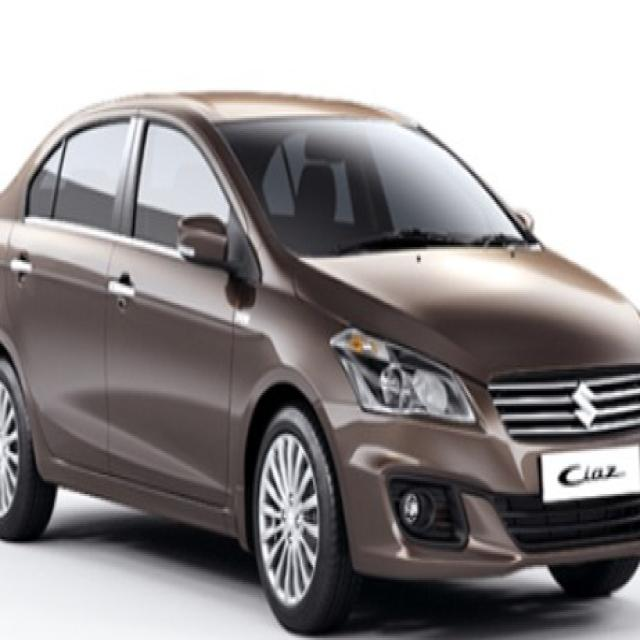license_plate: (534, 444, 640, 489)
